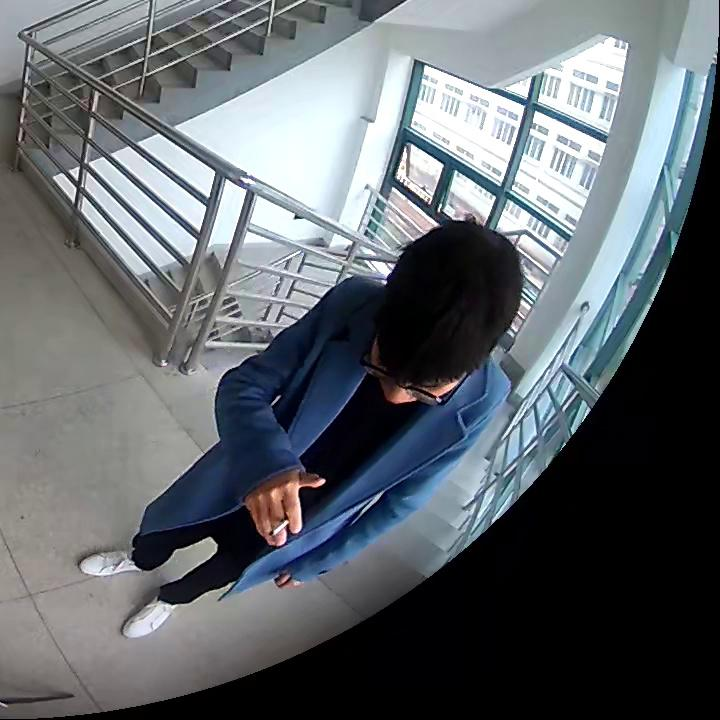handsmoke: (247, 471, 330, 549)
handwithoutsmoke: (270, 567, 301, 594)
mouthwithoutsmoke: (362, 214, 522, 404)
